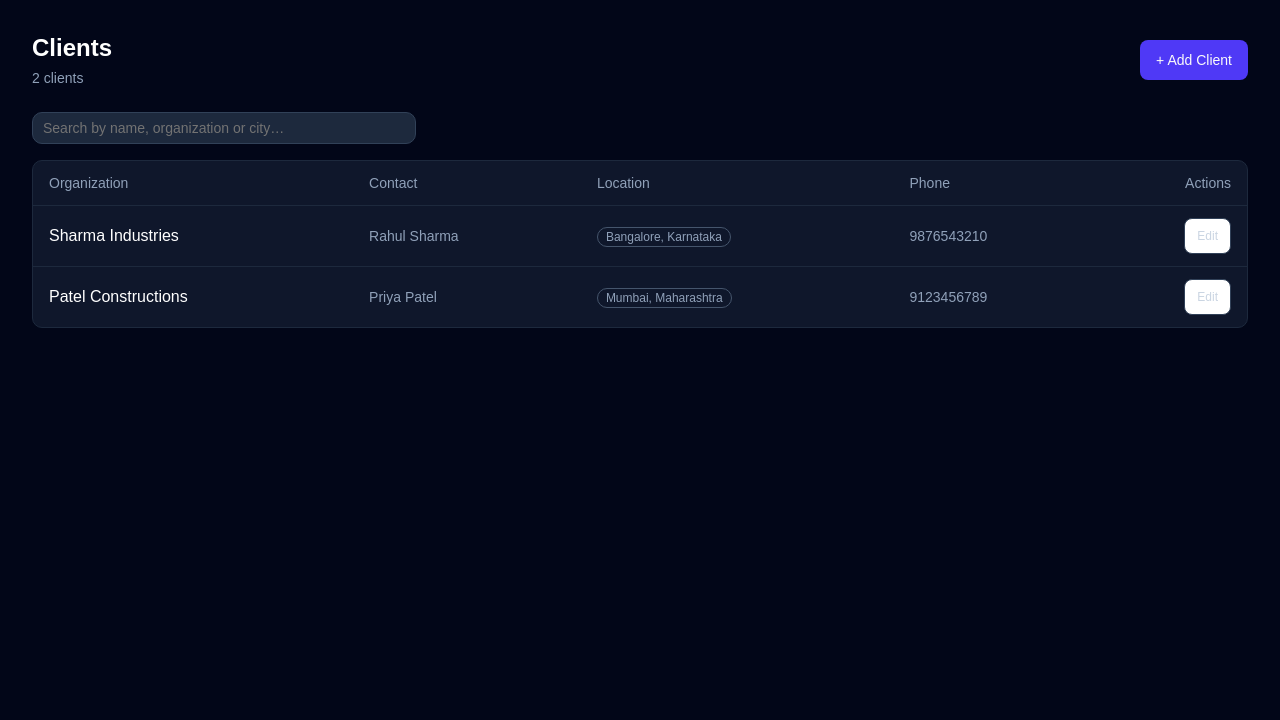
Scenario: opens dialog on Add Client click
Click the button "+ Add Client" at (1194, 60), box [1140,40,1248,80]
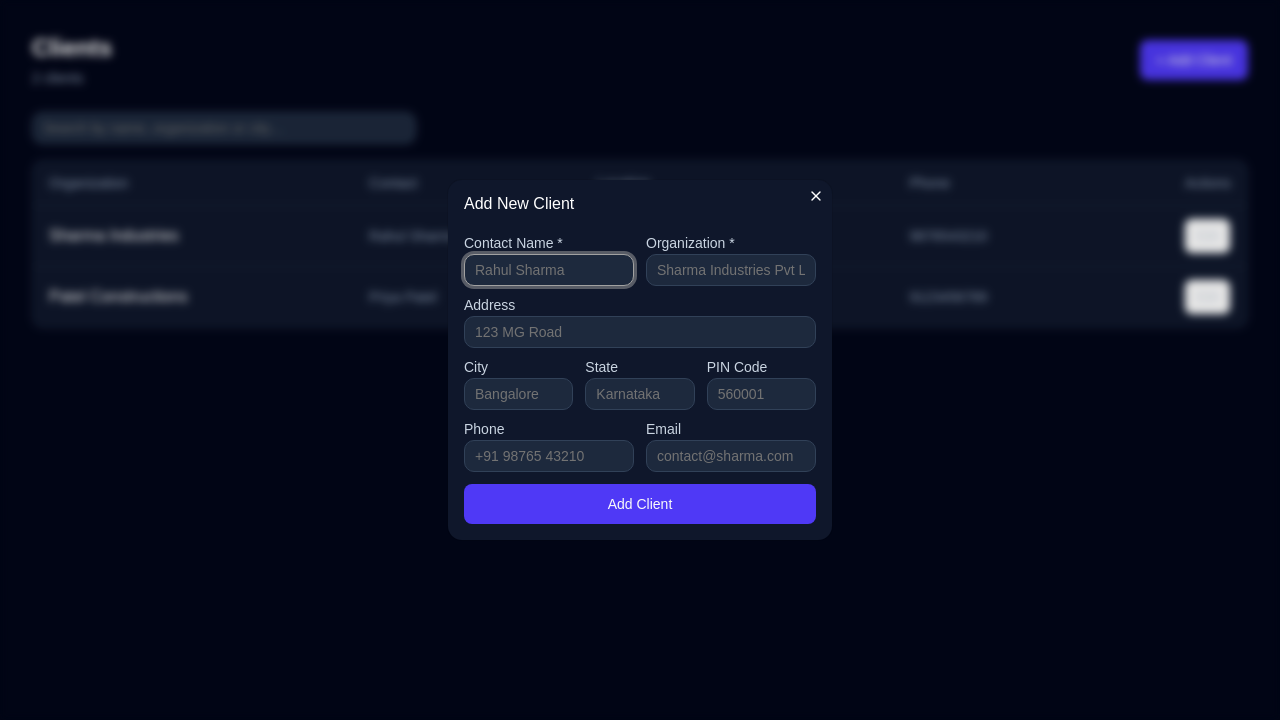
Result: the dialog is shown at [448,180,832,540]
